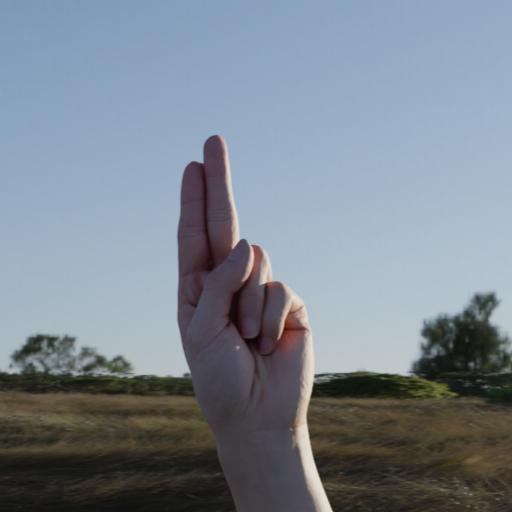U: (143, 118, 326, 442)
